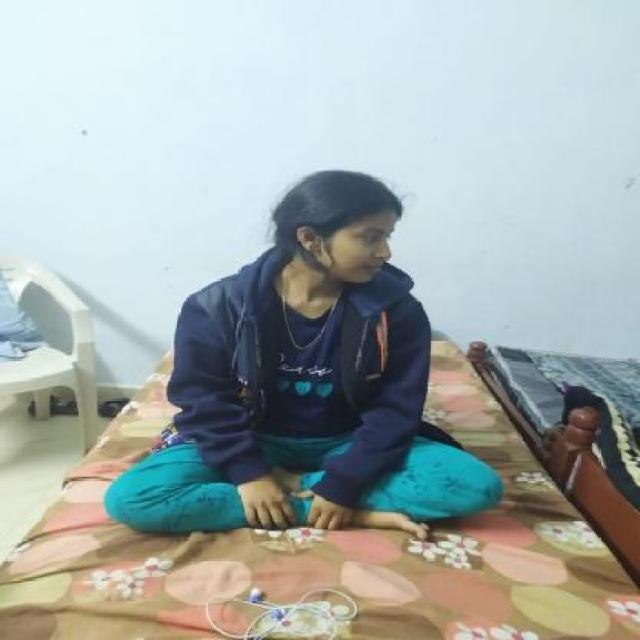cheating: (160, 160, 436, 548)
